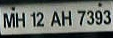character: (2, 12, 14, 28), (50, 10, 61, 27), (76, 9, 86, 26), (15, 12, 25, 28), (61, 10, 71, 26), (35, 11, 44, 27), (102, 9, 110, 25), (86, 10, 94, 25), (94, 10, 102, 25), (29, 11, 35, 27)
